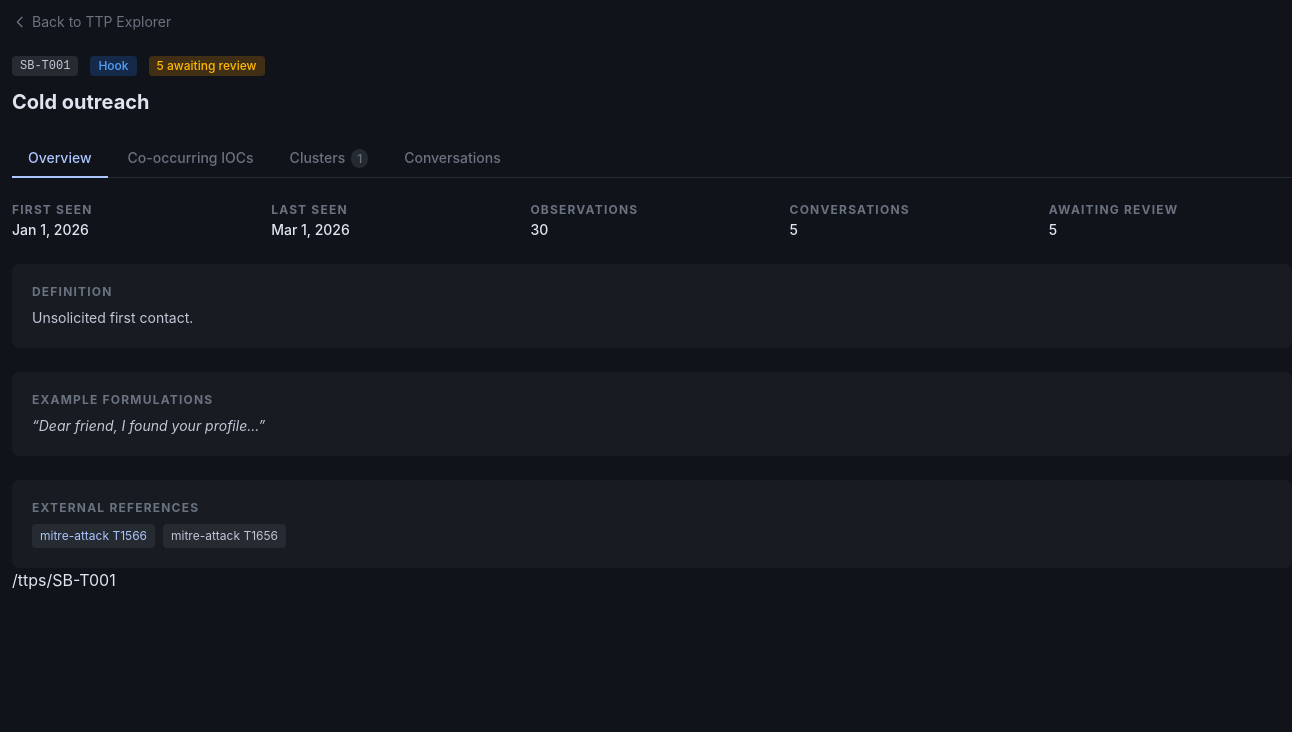
TtpDetail › renders server-paginated conversations, including the review-only row with 0 confirmed observations
This screenshot has width=1292, height=732.
Expected: the heading "Cold outreach" is shown, [12, 90, 150, 114]
Click the button with test id "ttp-detail-tab-conversations": {"x": 452, "y": 159} [388, 140, 517, 178]
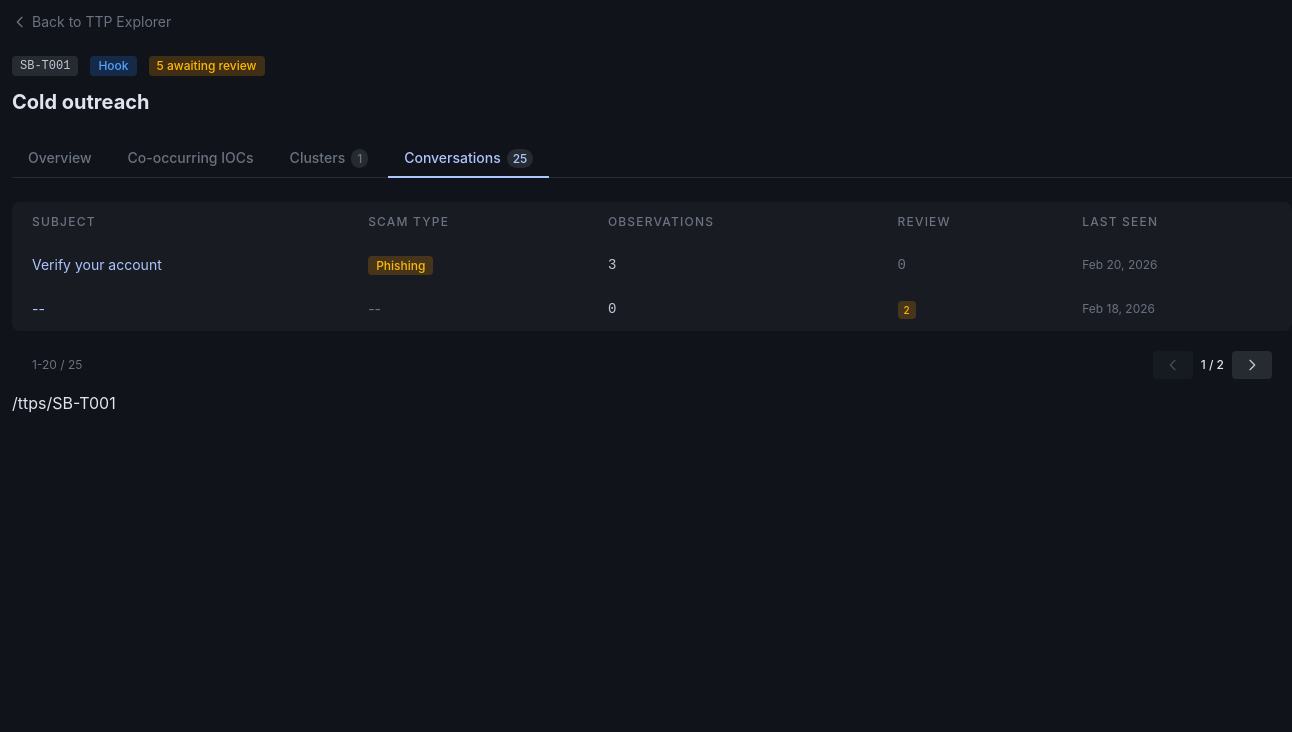
Expected: the link "Verify your account" is shown, [32, 256, 162, 272]
Expected: the link with test id "ttp-conversation-link" reads "--", [32, 300, 45, 317]
Expected: the text "Phishing" is shown, [368, 256, 433, 274]
Click the button named "Next page": {"x": 1252, "y": 365} [1232, 351, 1272, 379]
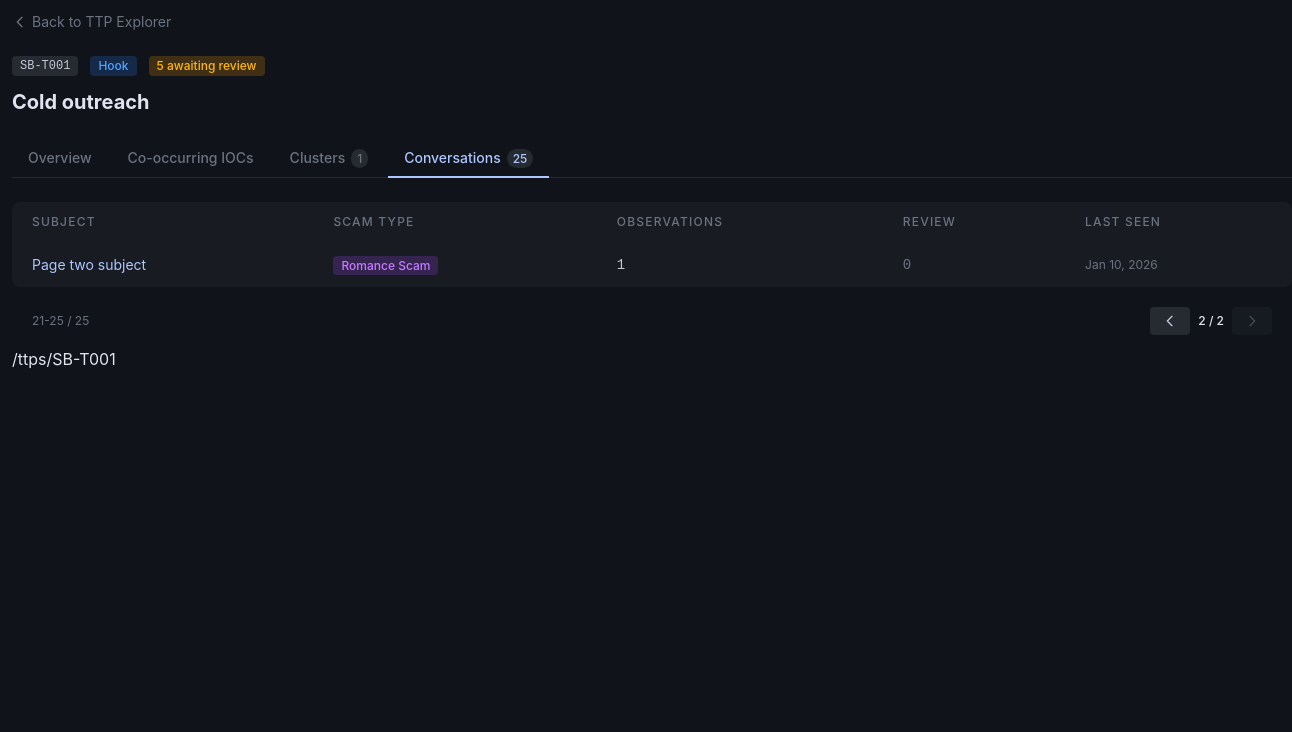
Expected: the link "Page two subject" is shown, [32, 256, 146, 272]
